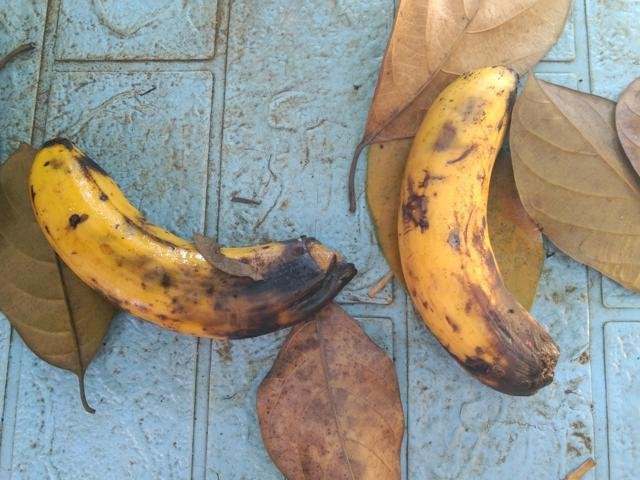overripe: (376, 49, 531, 321), (9, 149, 184, 338)
rotten: (167, 211, 352, 374), (411, 282, 569, 428)
